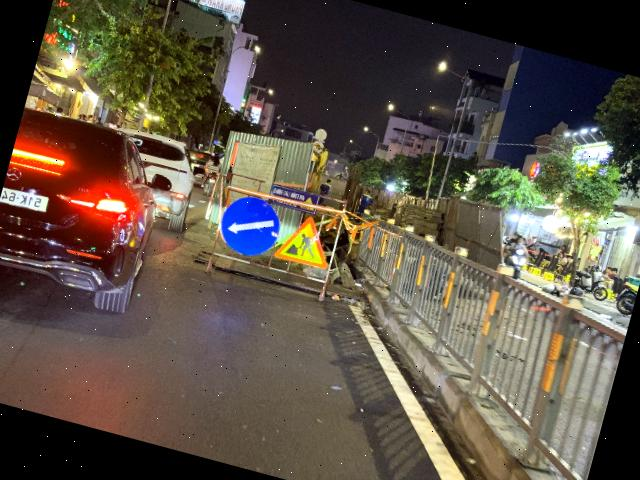cong-truong-dang-thi-cong: (274, 210, 339, 270)
huong-phai-di-vong-chuong-ngai-vat: (215, 190, 287, 262)
